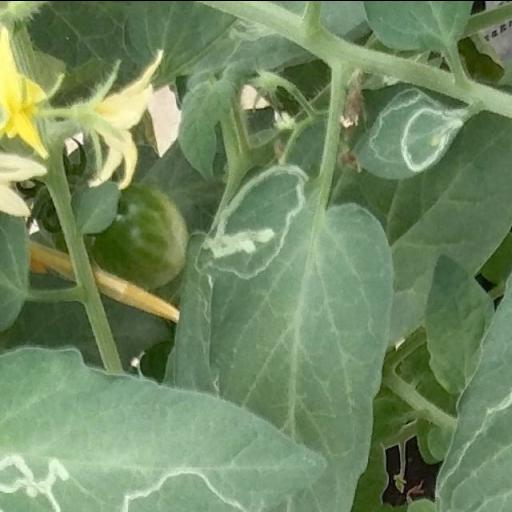disease_tomato: (197, 163, 393, 512), (0, 344, 328, 512), (350, 84, 466, 180)
